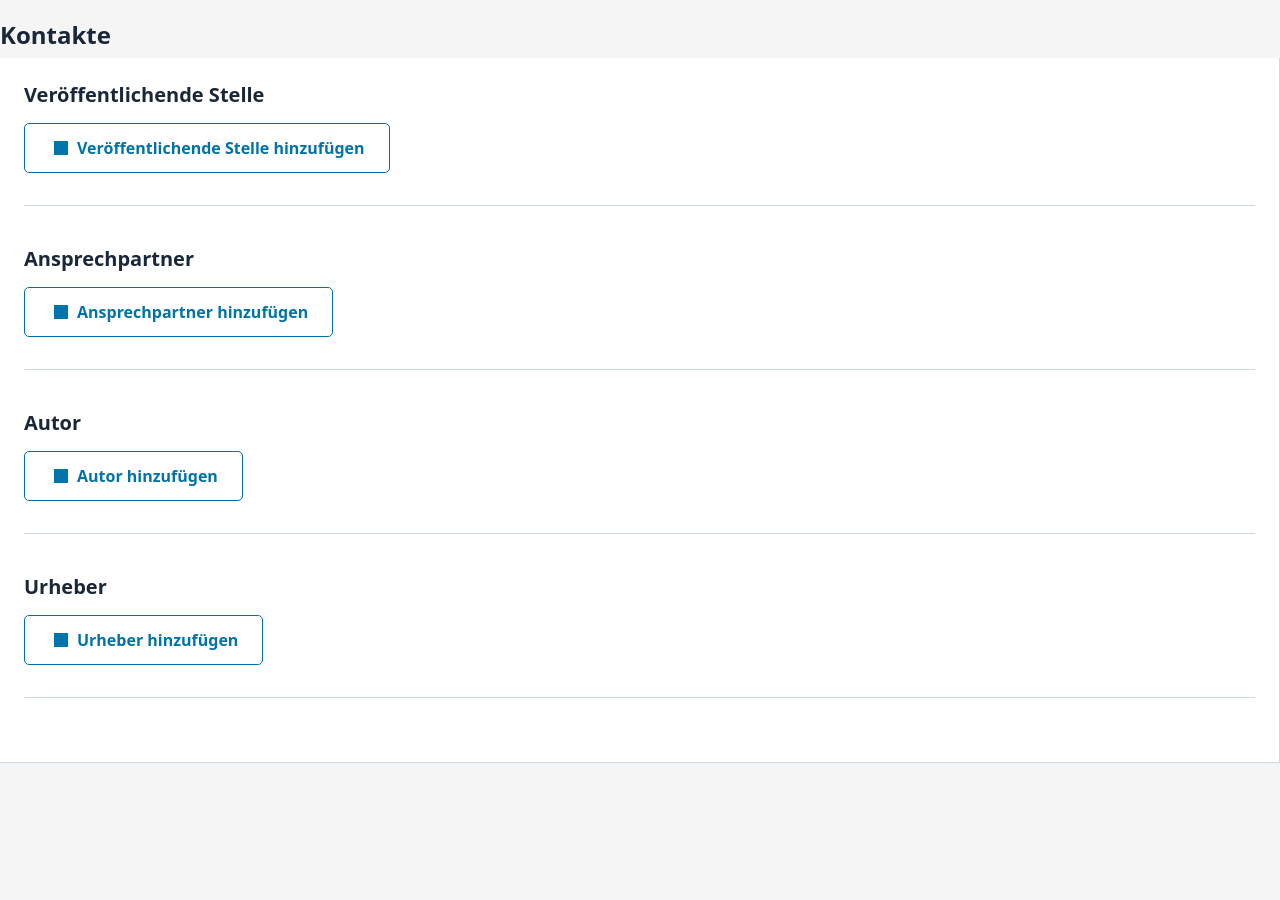
Test case: MetadataFormStepContacts › should add a contact
The image size is (1280, 900).
Click the button "Autor hinzufügen": [133, 476] box [24,451,243,501]
(page scrolled)
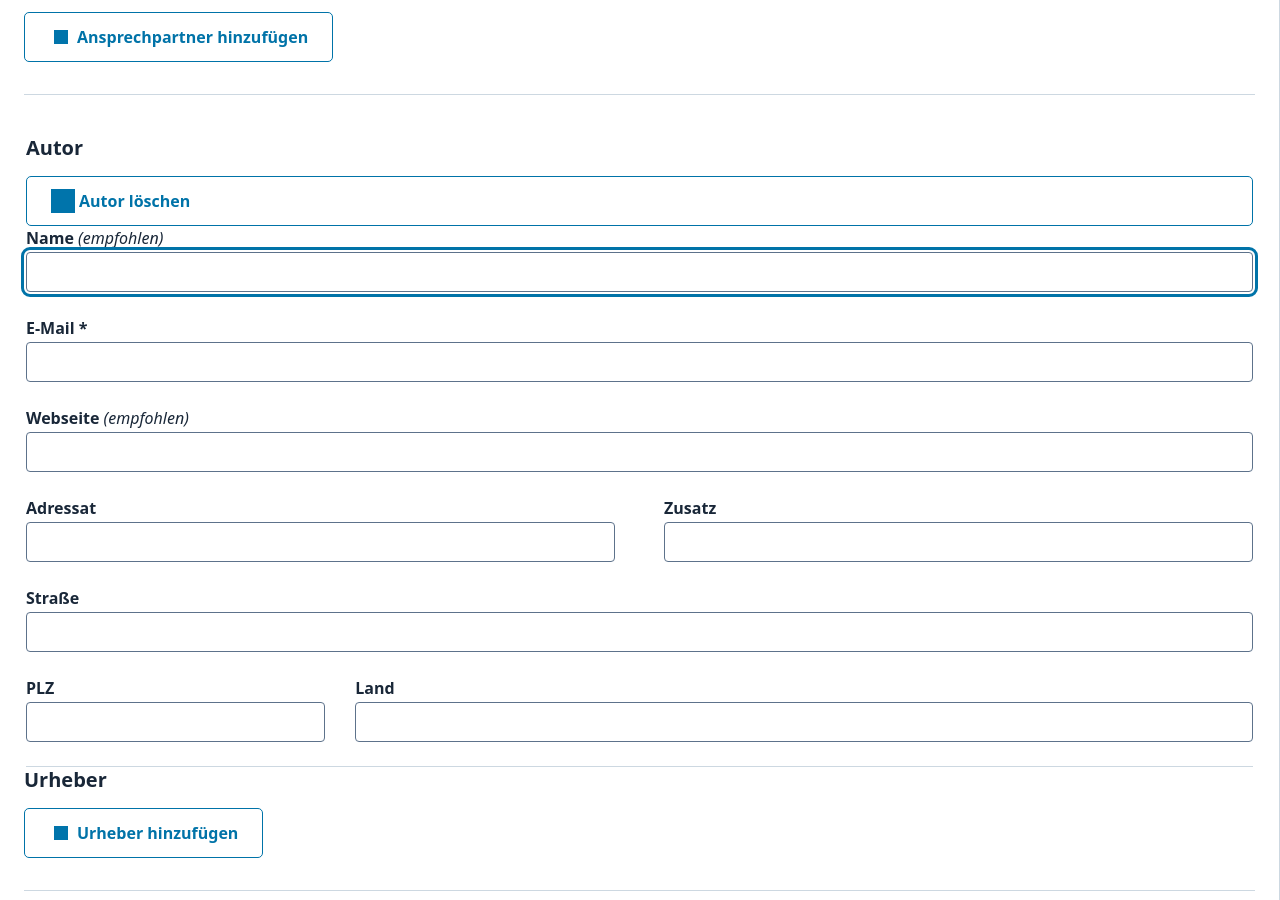
Expected: the element "Autor" is shown
